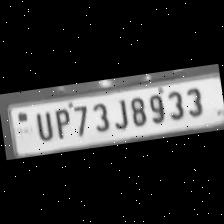3: (180, 84, 206, 119), (88, 99, 111, 134), (163, 87, 186, 121)
7: (66, 103, 92, 139)
8: (124, 93, 148, 128)
9: (144, 91, 168, 125)
J: (107, 96, 129, 130)
P: (50, 104, 72, 140)
U: (29, 108, 55, 144)
